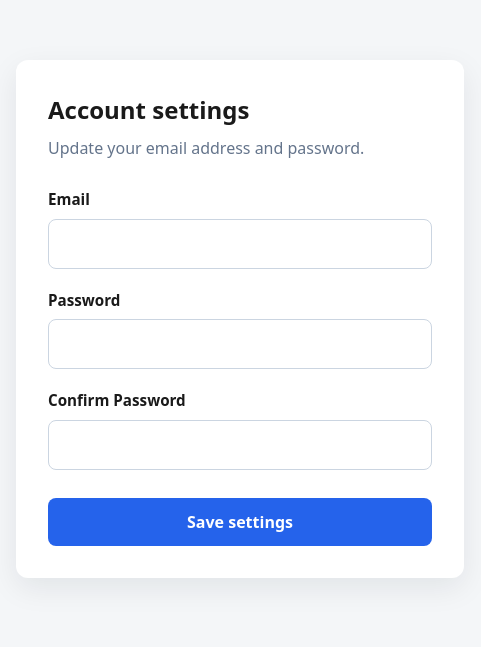
Test: SettingsForm › shows validation errors when required fields are empty
Click the button "Save settings": (240, 522) left=48, top=498, right=432, bottom=546
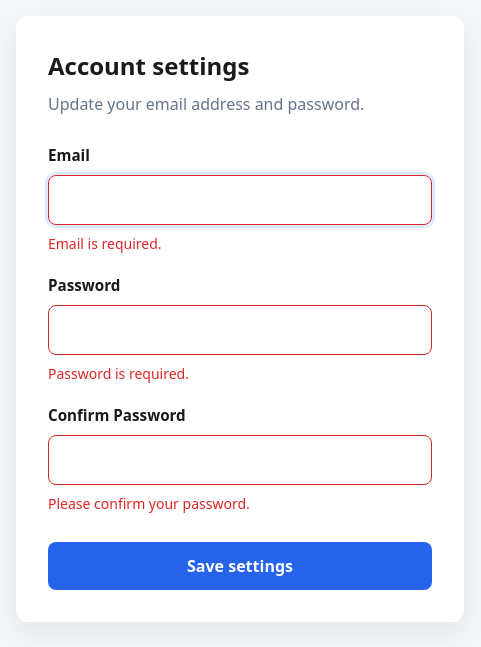
Now the text "Email is required." is shown, box left=48, top=234, right=162, bottom=253
Now the text "Password is required." is shown, box left=48, top=364, right=189, bottom=383
Now the text "Please confirm your password." is shown, box left=48, top=494, right=250, bottom=513
